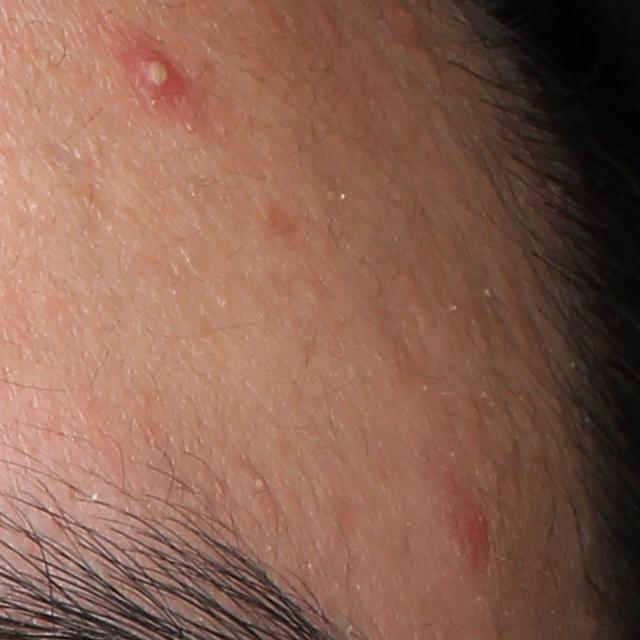papule: (450, 491, 492, 568), (387, 3, 419, 38)
pustule: (118, 41, 184, 103)
